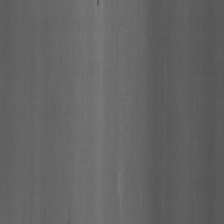inclusion: (93, 0, 103, 9)
